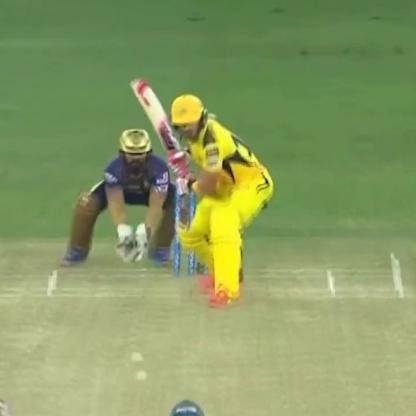ball: (130, 369, 158, 386), (123, 348, 146, 364)
bat: (126, 75, 194, 180)
pitch: (0, 263, 415, 415)
